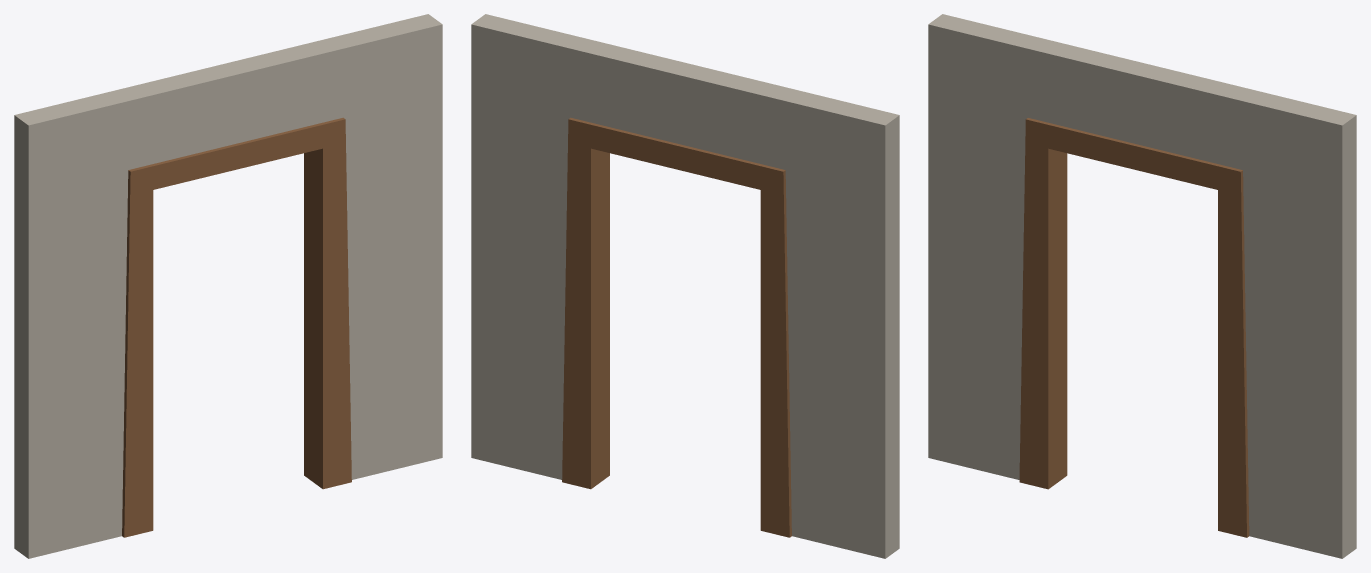
The model's file is Wall_06.fbx.
3 views of the same model, side by side, from view 1: azimuth 30°, elevation 25°; view 2: azimuth 150°, elevation 25°; view 3: azimuth 330°, elevation 25° (orthographic).
Visible parts, largest first — view 1: Wall_06; view 2: Wall_06; view 3: Wall_06.
Boxes of the visible parts, left/top/right/bottom form: Wall_06: left=14, top=14, right=442, bottom=558; Wall_06: left=471, top=14, right=899, bottom=558; Wall_06: left=928, top=14, right=1356, bottom=558.
Bounding box in the file's own units: 259 × 259 × 20.37.
